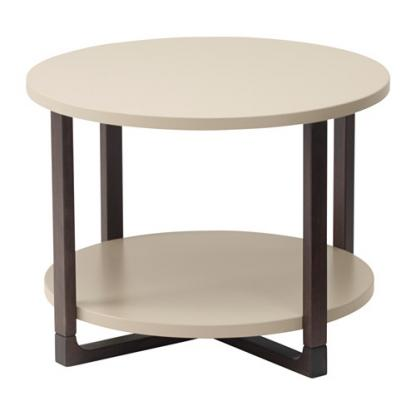Table: (22, 31, 394, 380)
